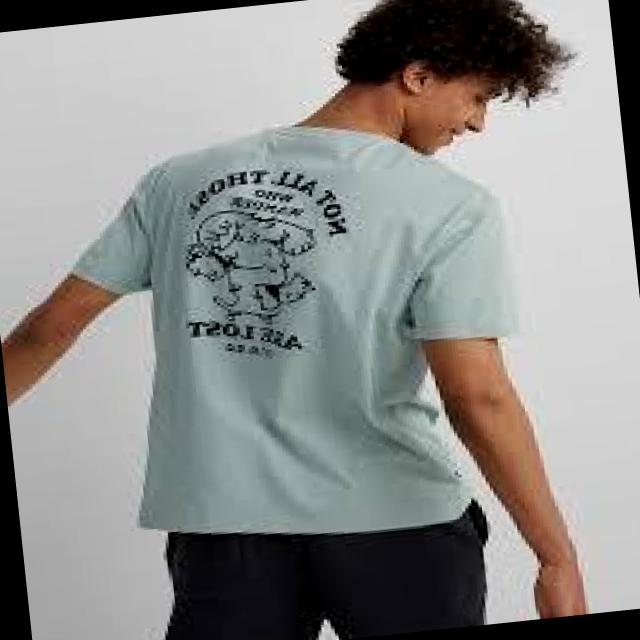Tshirt: (51, 102, 566, 570)
